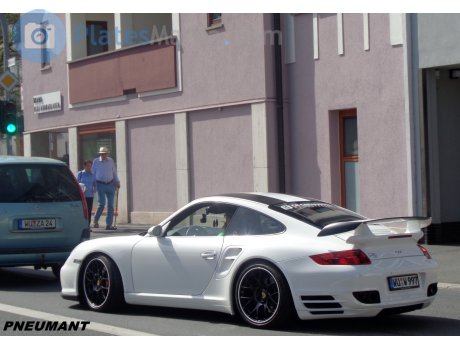License Plates: (392, 276, 417, 286)
